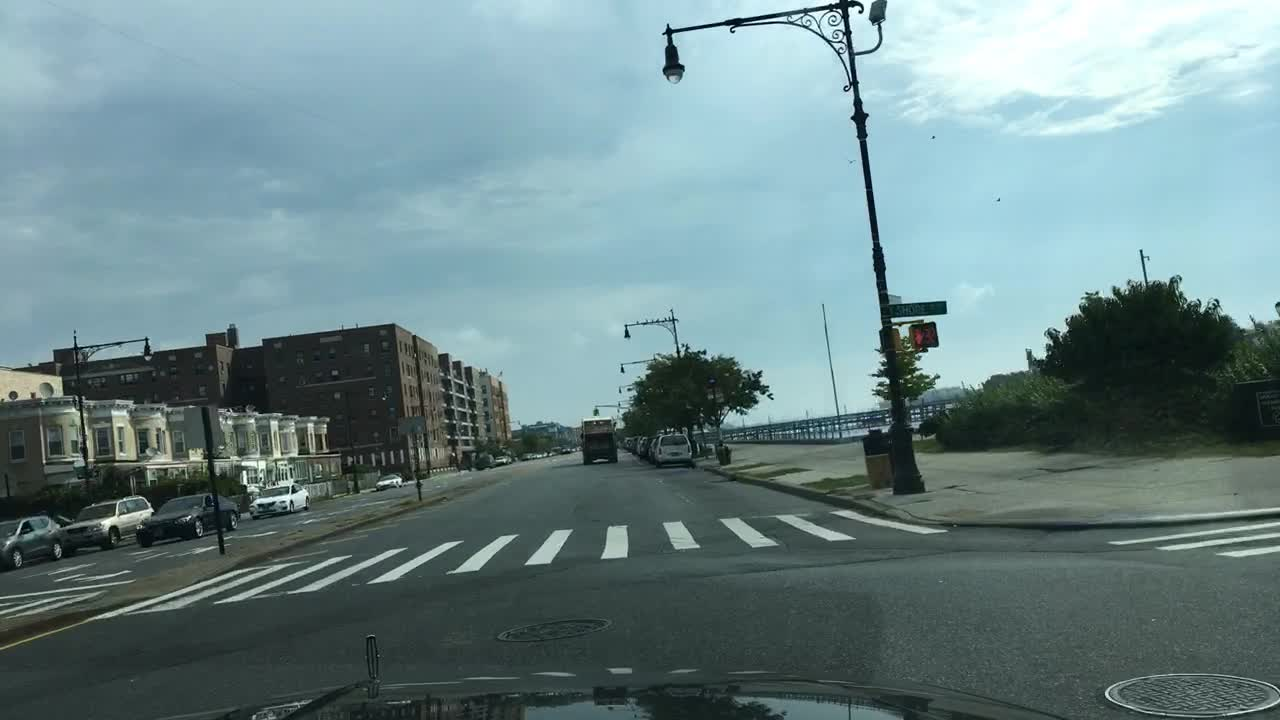car: (56, 497, 153, 551), (137, 492, 239, 542), (0, 516, 65, 572), (248, 482, 308, 521), (654, 433, 691, 469), (645, 433, 664, 464), (373, 473, 403, 491), (47, 515, 74, 528), (475, 451, 490, 472), (636, 436, 648, 457), (630, 434, 639, 457), (492, 454, 509, 466), (623, 436, 633, 451), (503, 452, 515, 464), (519, 451, 533, 461), (530, 449, 540, 461), (560, 446, 573, 455), (540, 449, 552, 458)
traffic light: (910, 321, 937, 346), (878, 326, 902, 353), (339, 456, 352, 473), (352, 450, 364, 467)
traffic sign: (889, 299, 947, 314), (397, 418, 424, 436), (78, 470, 99, 479)
truck: (579, 417, 619, 465)
